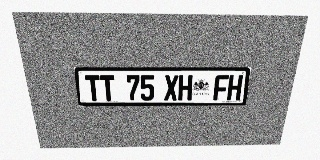5: (140, 75, 154, 101)
7: (125, 75, 140, 101)
F: (213, 75, 229, 100)
H: (227, 75, 243, 100), (178, 75, 193, 101)
T: (85, 75, 101, 101), (100, 75, 116, 101)
X: (164, 75, 178, 101)
